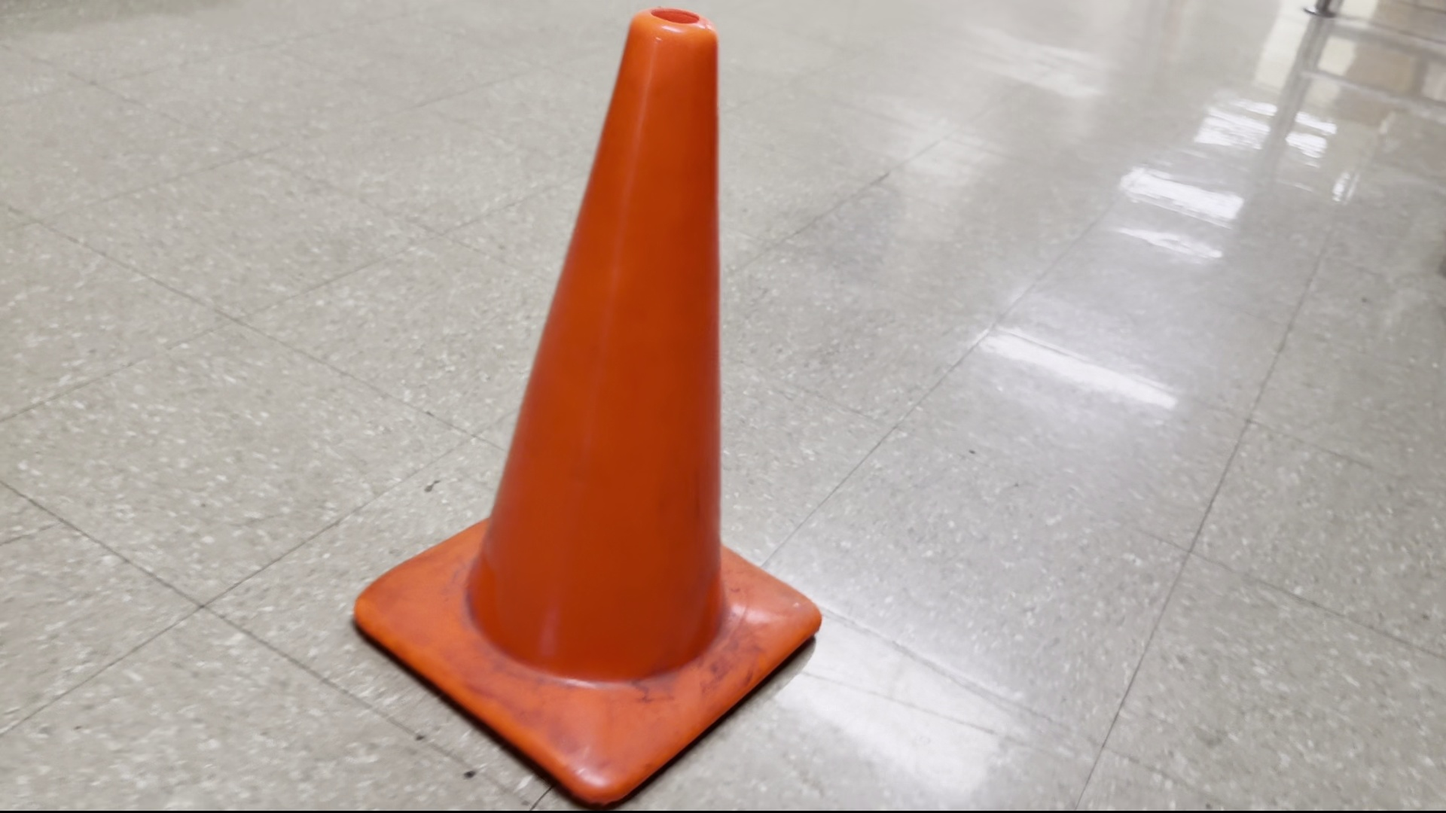traffic_cone: (351, 7, 823, 809)
